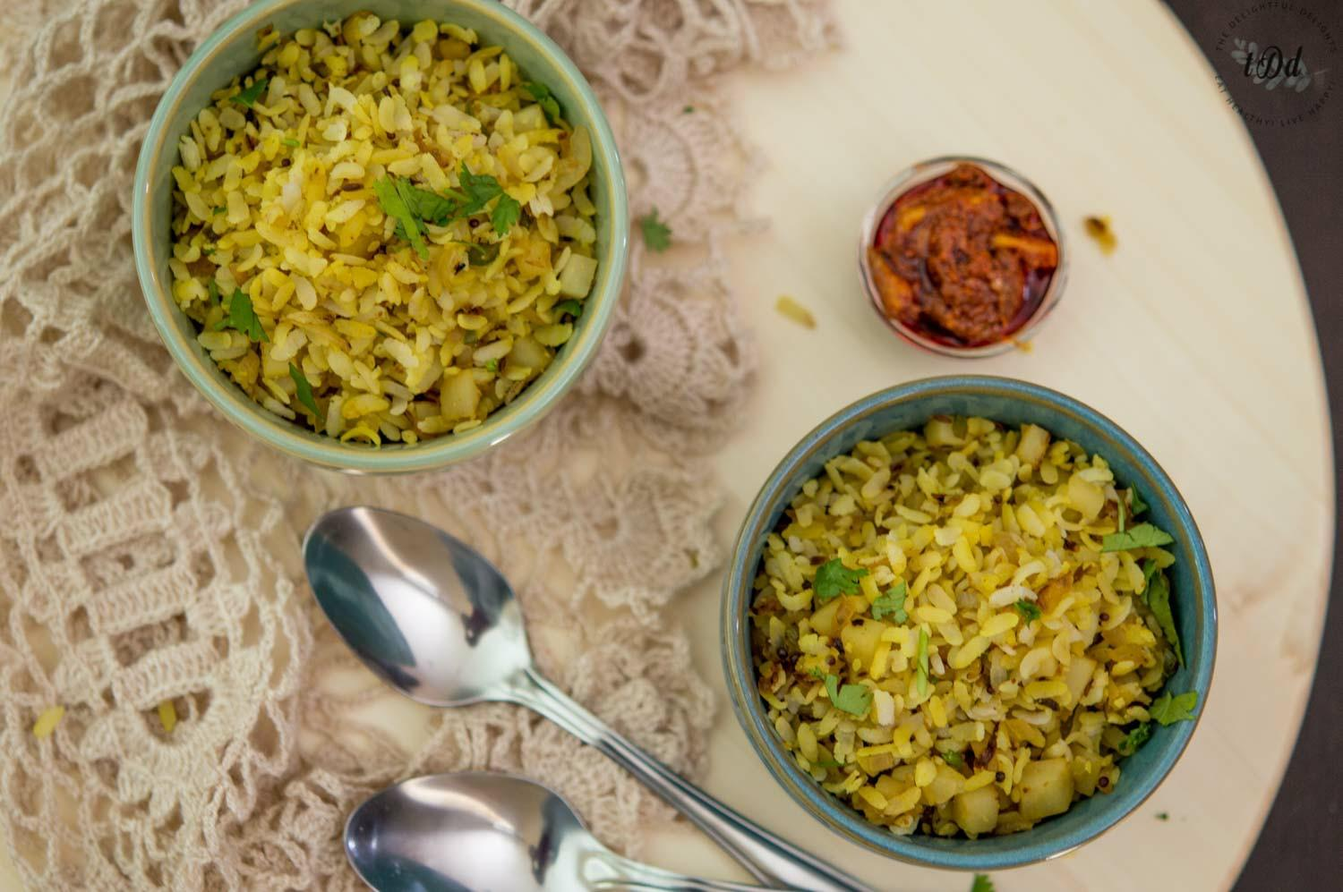Poha: (180, 15, 600, 444), (747, 421, 1175, 841)
